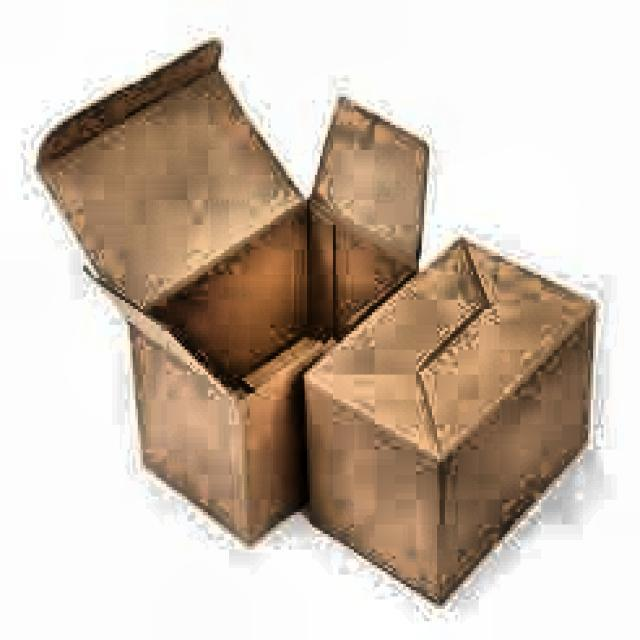cardboard: (34, 35, 598, 602), (299, 234, 596, 606), (33, 34, 310, 390), (304, 94, 430, 340)
